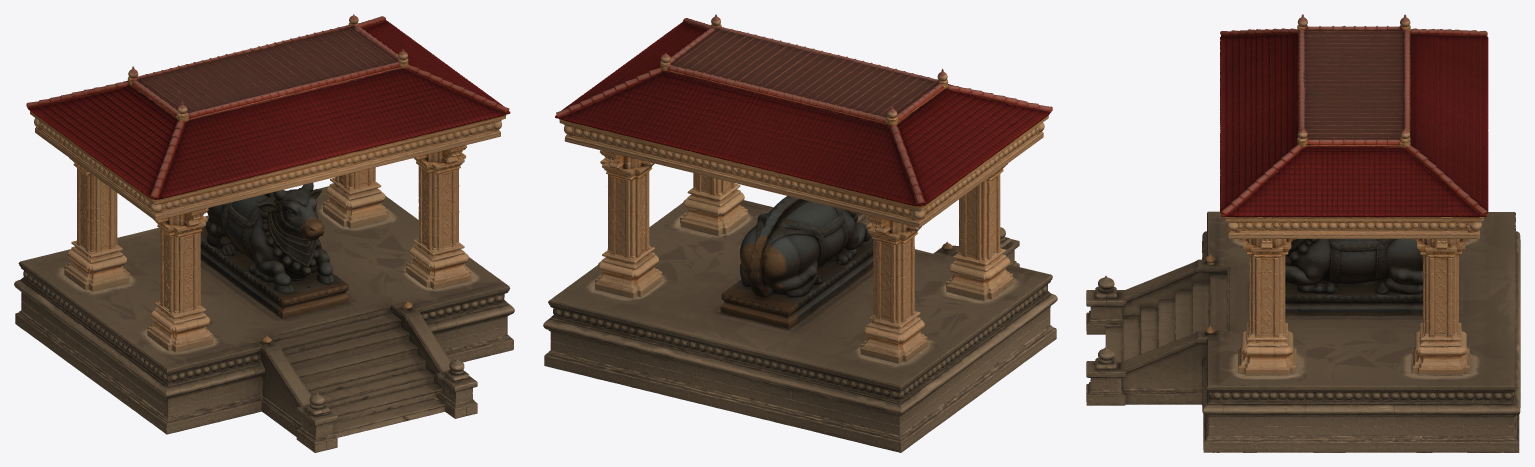
The model's file is nandi-hi.glb.
3 renders of one model, left to right at view 1: azimuth 30°, elevation 25°; view 2: azimuth 150°, elevation 25°; view 3: azimuth 270°, elevation 25°, orthographic. The views are drawn at different scales.
Parts seen in each view (by area): view 1: tripo_node_16b73997-3212-407d-a541-d48e3df051c7; view 2: tripo_node_16b73997-3212-407d-a541-d48e3df051c7; view 3: tripo_node_16b73997-3212-407d-a541-d48e3df051c7.
Part boxes in pixels (x1,y1,x2,y2): tripo_node_16b73997-3212-407d-a541-d48e3df051c7: (14,14,514,452); tripo_node_16b73997-3212-407d-a541-d48e3df051c7: (543,14,1057,452); tripo_node_16b73997-3212-407d-a541-d48e3df051c7: (1086,14,1520,452).
Bounding box in the file's own units: 0.976 × 0.7342 × 0.9798.
Materials: 1 (1 with a texture image).
